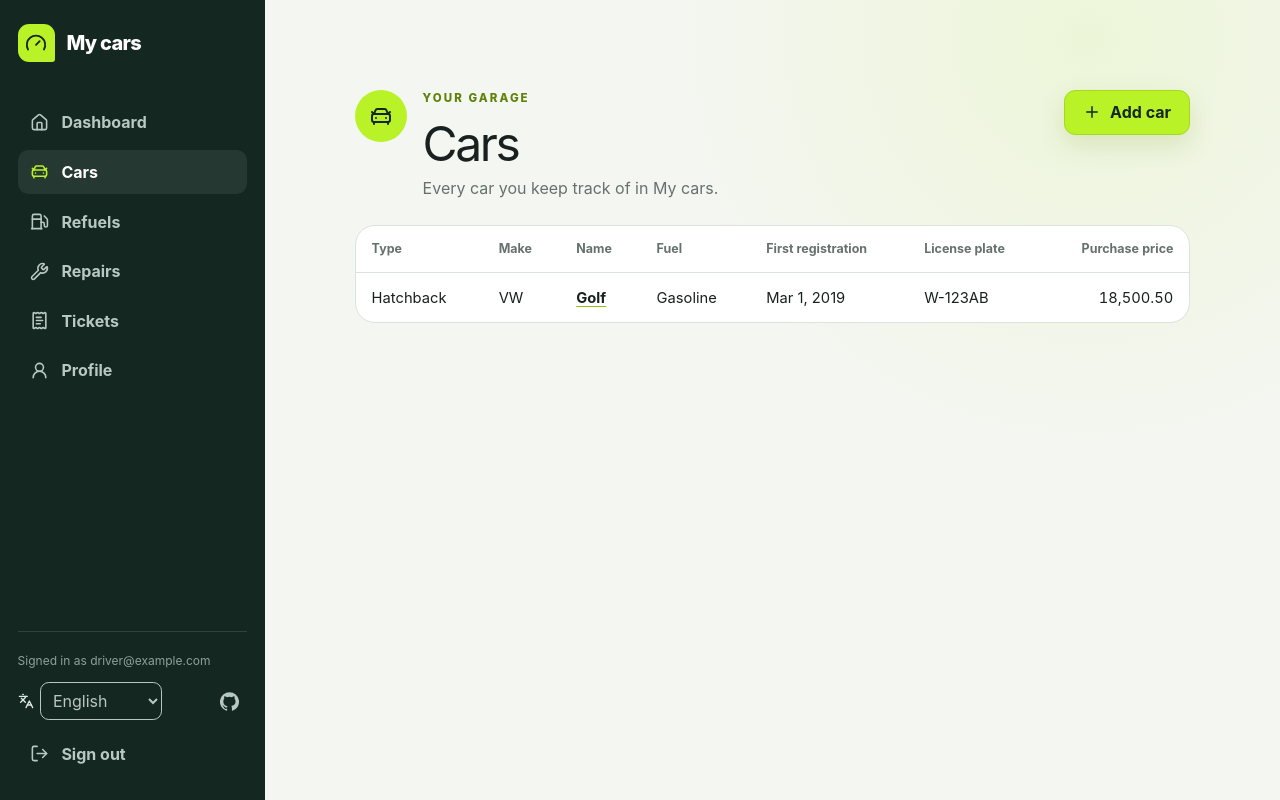
Test: cars list › follows a switch to German
This screenshot has width=1280, height=800.
Check: the link "Golf" is shown, box [576,289,606,307]
Select "Deutsch" in the dropdown named "Language": (101, 701) [40,682,162,720]
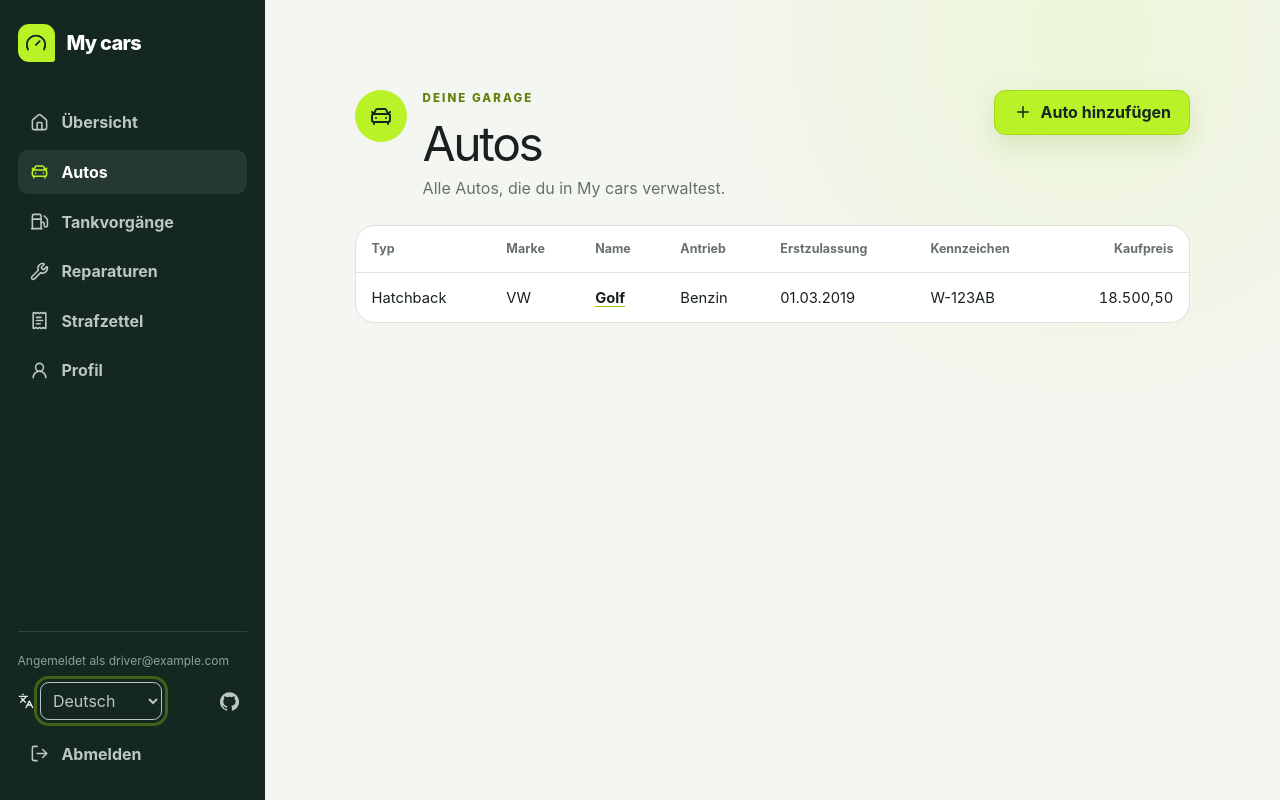
Check: the heading "Autos" is shown, box [423,114,542,173]
Check: the column heading "Erstzulassung" is shown, box [764,226,914,273]
Check: the row "Hatchback VW Golf Benzin 01.03.2019 W-123AB 18.500,50" is shown, box [356,273,1189,322]
